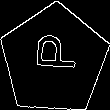P_W: (29, 40, 80, 79)
